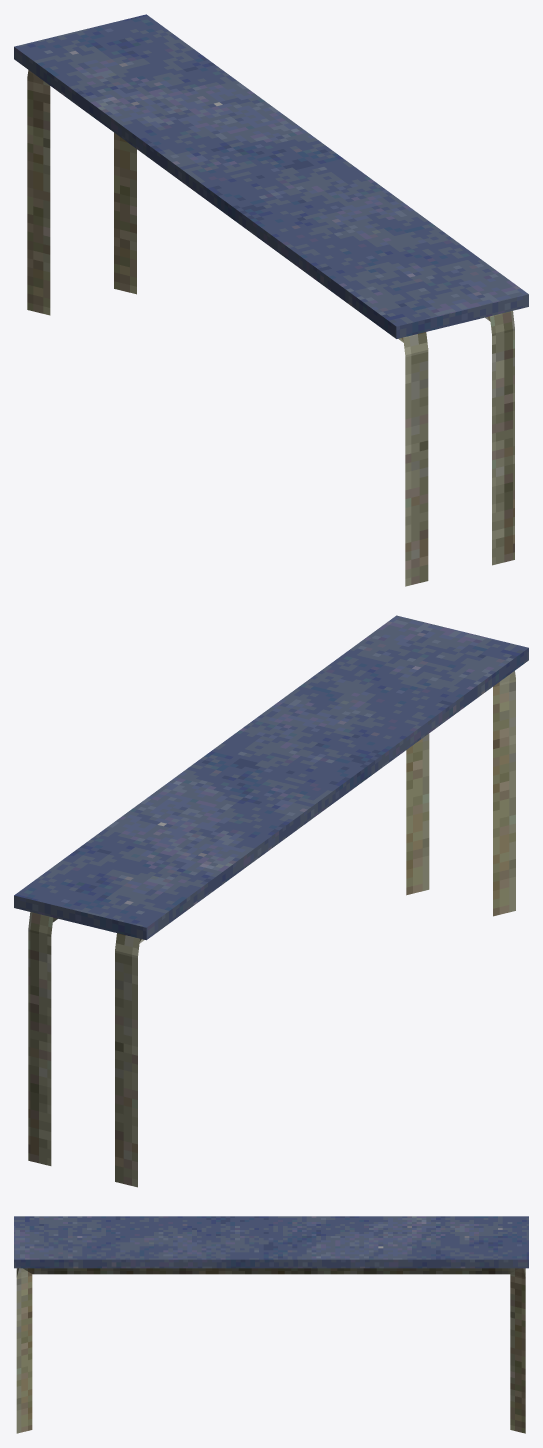
The model's file is busstop_bench_alt.glb.
3 views of the same model, one above another, from view 1: azimuth 30°, elevation 25°; view 2: azimuth 150°, elevation 25°; view 3: azimuth 270°, elevation 25° (orthographic). The views are drawn at different scales.
Parts seen in each view (by area): view 1: busstop_bench_alt; view 2: busstop_bench_alt; view 3: busstop_bench_alt.
Boxes of the visible parts, bbox=[...] form: busstop_bench_alt: bbox=[14, 14, 528, 586]; busstop_bench_alt: bbox=[14, 615, 528, 1187]; busstop_bench_alt: bbox=[14, 1216, 528, 1433].
Size of the model in its own units: 0.4 by 0.7619 by 2.
1 material, 1 textured.
